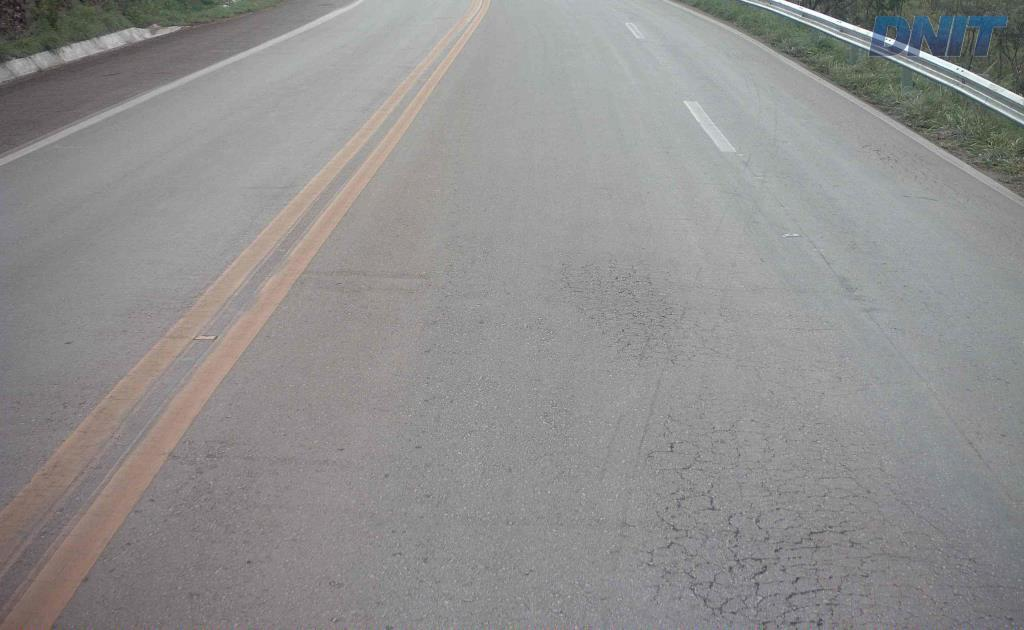crack: (717, 526, 833, 629), (768, 519, 864, 565), (680, 560, 734, 629)
